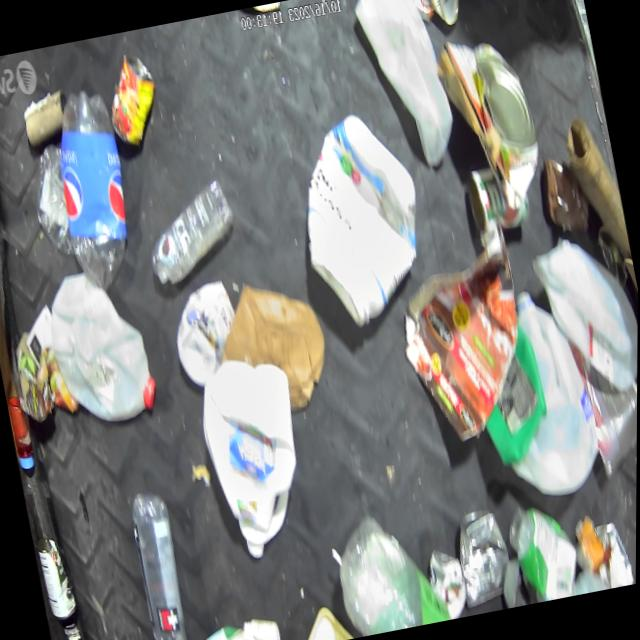can: (449, 501, 521, 609), (99, 46, 169, 156), (462, 160, 532, 240), (34, 532, 81, 624), (423, 541, 472, 622), (61, 615, 99, 640)
milk_jug: (469, 278, 609, 508), (189, 350, 322, 566), (38, 262, 163, 435), (348, 0, 466, 179), (523, 222, 639, 404)
plastic_bottle: (40, 81, 147, 299), (136, 174, 247, 294), (124, 483, 202, 640)
